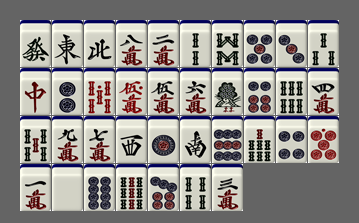0m: (116, 68, 147, 115)
0p: (308, 116, 339, 163)
0s: (84, 68, 115, 115)
1m: (20, 164, 51, 211)
1p: (148, 116, 179, 163)
1s: (212, 68, 243, 115)
1z: (52, 20, 83, 67)
2m: (148, 20, 179, 67)
2p: (52, 68, 83, 115)
2s: (180, 20, 211, 67)
2z: (180, 116, 211, 163)
3m: (212, 164, 243, 211)
3p: (276, 20, 307, 67)
3s: (308, 20, 339, 67)
3z: (116, 116, 147, 163)
4m: (308, 68, 339, 115)
4p: (276, 116, 307, 163)
4s: (180, 164, 211, 211)
4z: (84, 20, 115, 67)
5m: (148, 68, 179, 115)
5p: (244, 20, 275, 67)
5s: (20, 116, 51, 163)
5z: (52, 164, 83, 211)
6m: (180, 68, 211, 115)
6p: (244, 68, 275, 115)
6s: (276, 68, 307, 115)
6z: (20, 20, 51, 67)
7m: (84, 116, 115, 163)
7p: (148, 164, 179, 211)
7s: (244, 116, 275, 163)
7z: (20, 68, 51, 115)
8m: (116, 20, 147, 67)
8p: (84, 164, 115, 211)
8s: (212, 20, 243, 67)
9m: (52, 116, 83, 163)
9p: (212, 116, 243, 163)
9s: (116, 164, 147, 211)
